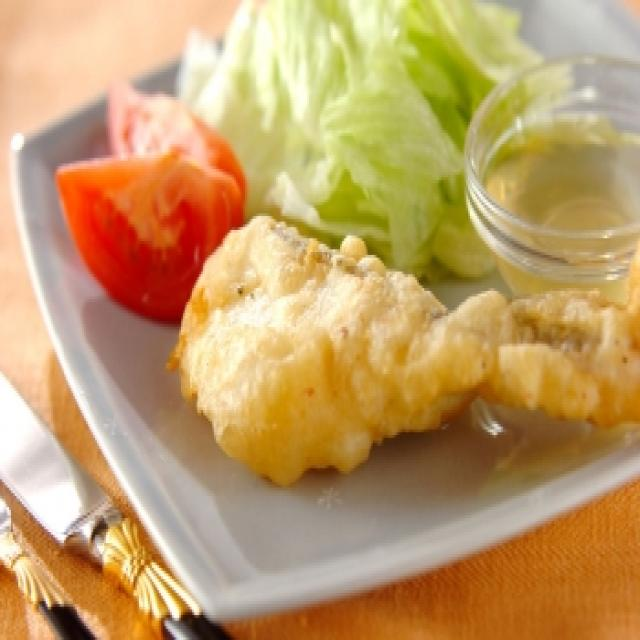炸货点心: (115, 205, 633, 454)
熟制海鲜: (115, 205, 633, 454)
